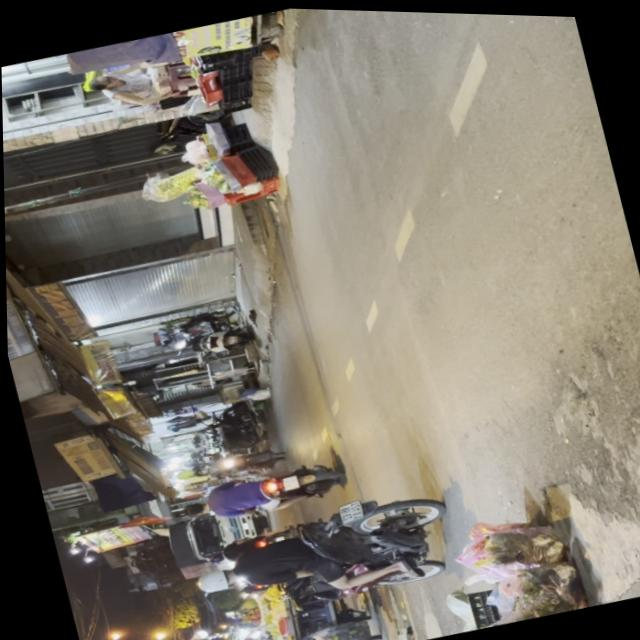helmet: (190, 562, 234, 593)
licenseplate: (176, 473, 460, 630)
nohelmet: (334, 497, 360, 522)
